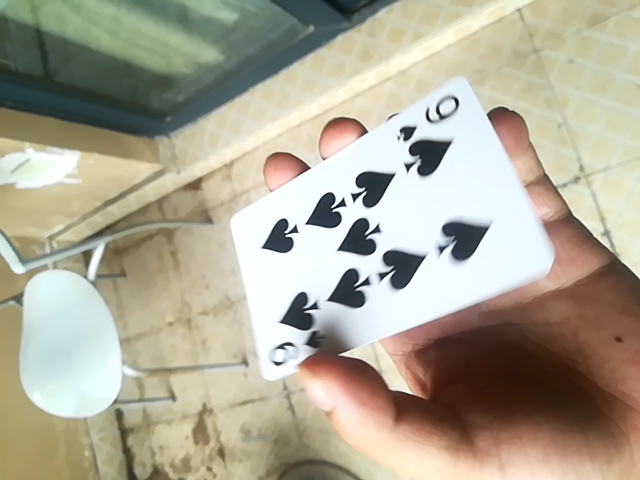ht 9: (223, 81, 550, 391)
